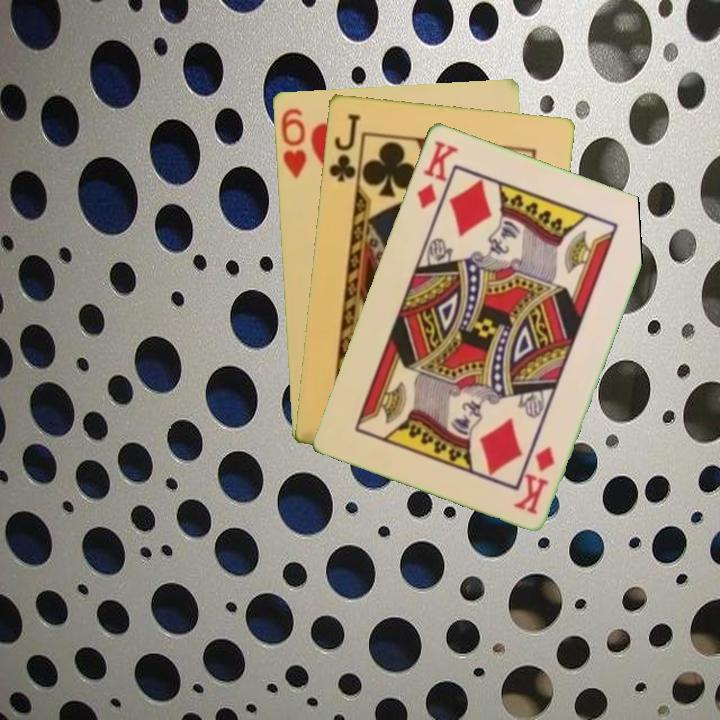6h: (276, 104, 309, 181)
Jc: (325, 109, 363, 185)
Kd: (413, 136, 461, 211), (511, 442, 558, 517)
